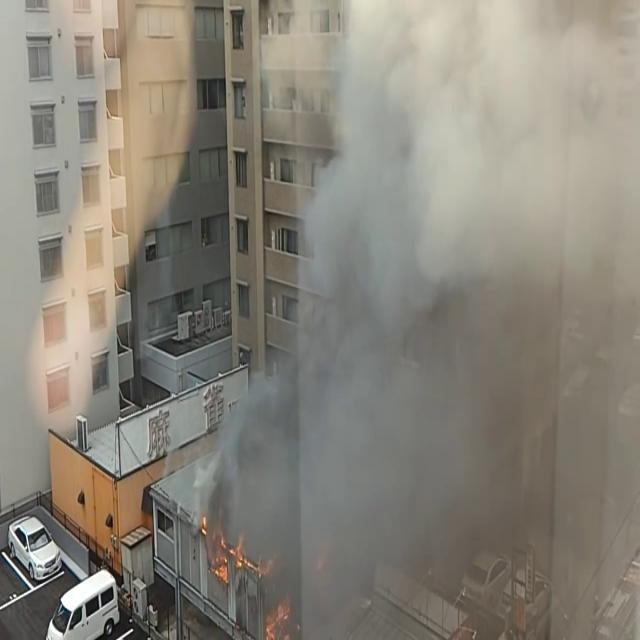Fire: (204, 522, 262, 588)
Smoke: (200, 0, 640, 640)
